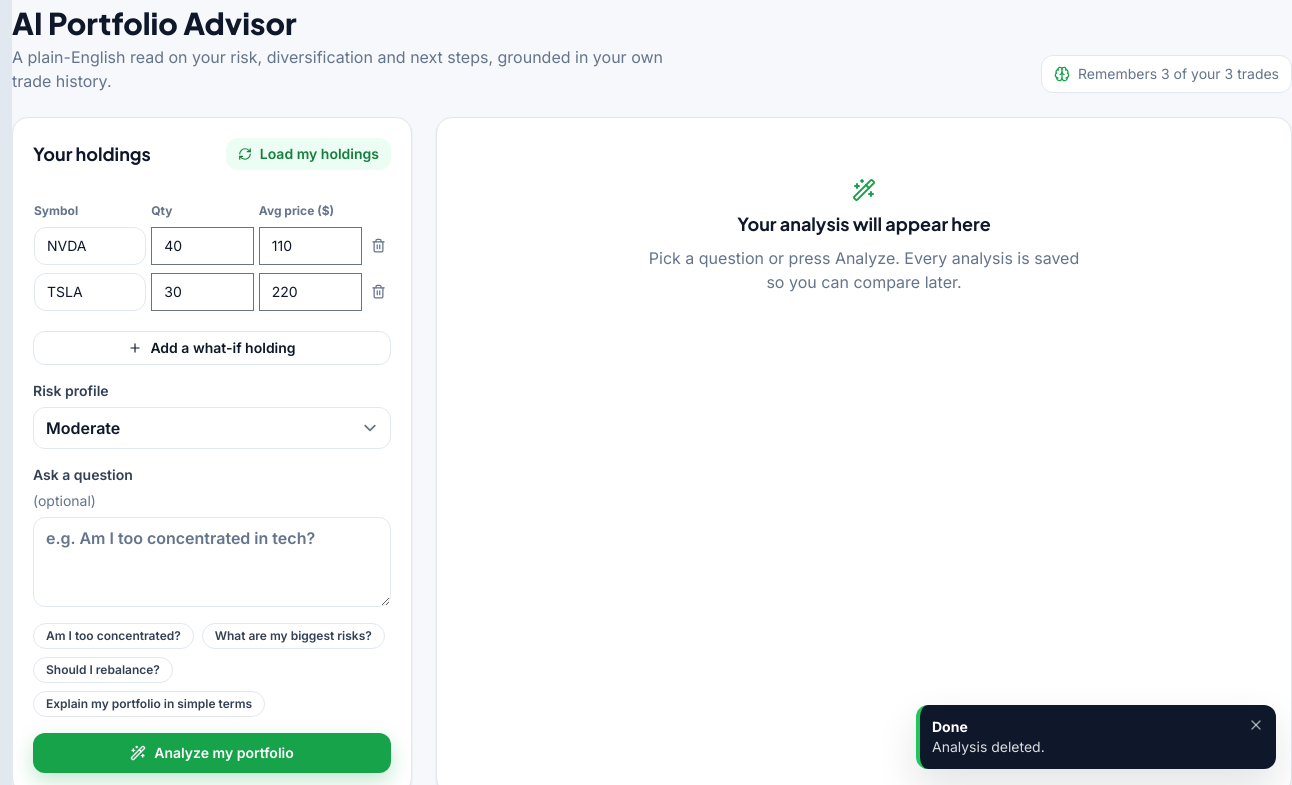
Test: AI Advisor › shows the API error when analysis fails
Step 1. Click the button "Analyze my portfolio" → (212, 753), box [33,733,391,773]
(page scrolled)
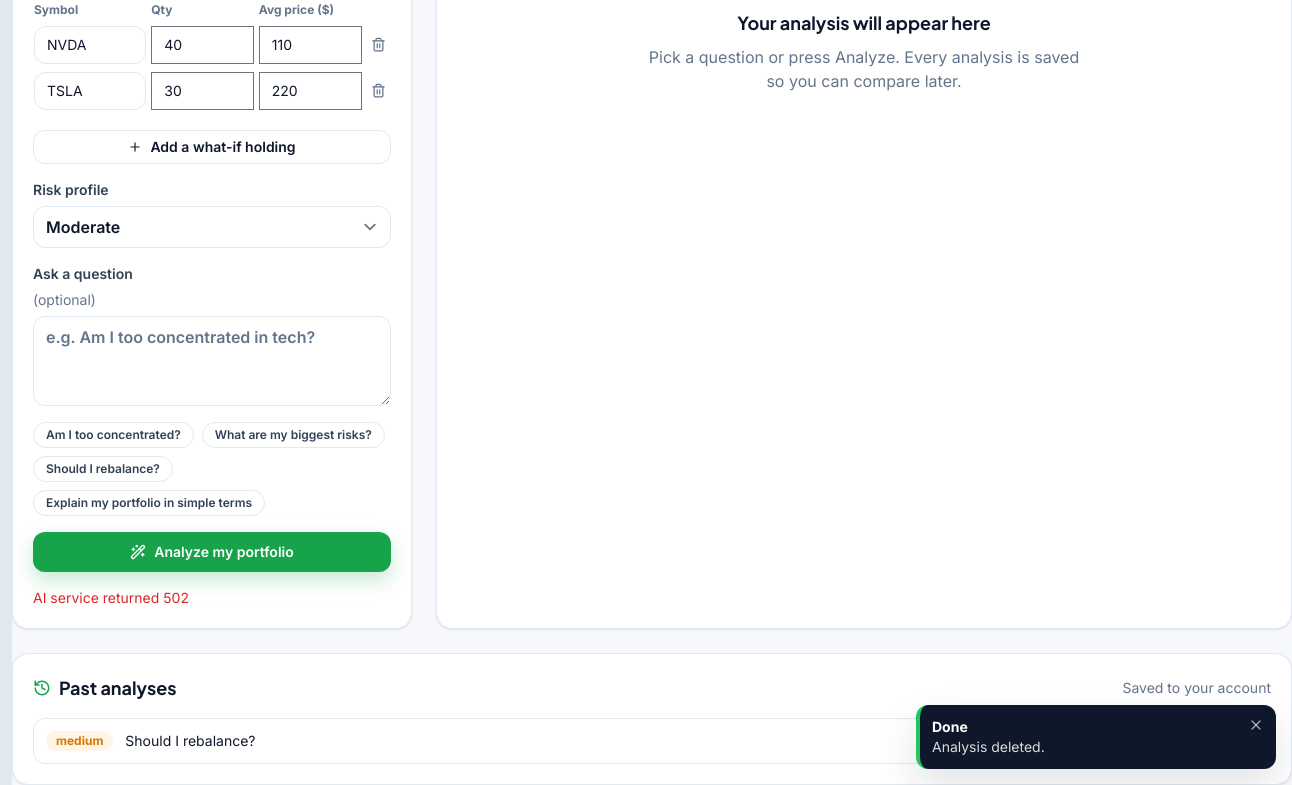
Now the message "AI service returned 502" is shown, box [33,589,189,606]
